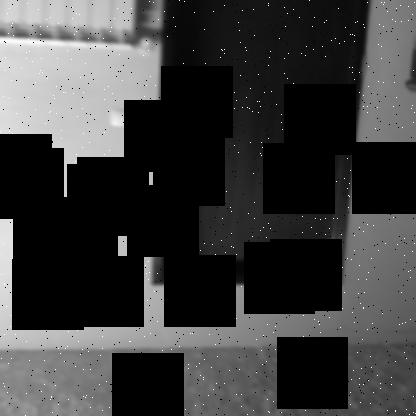Porte: (150, 1, 373, 286)
